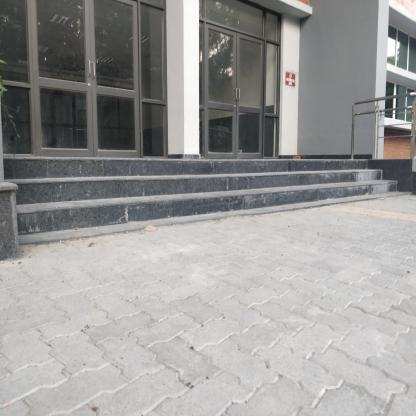stairs: (80, 160, 370, 213)
